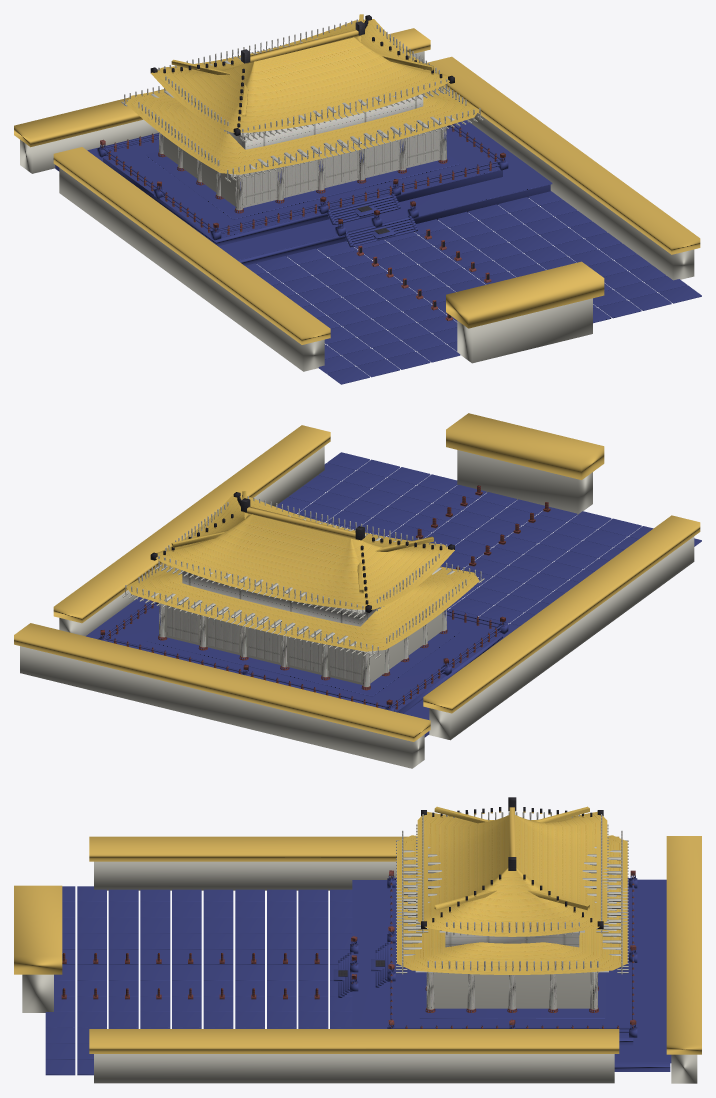
3 renders of one model, top to bottom at view 1: azimuth 30°, elevation 25°; view 2: azimuth 150°, elevation 25°; view 3: azimuth 270°, elevation 25°, orthographic. The views are drawn at different scales.
Visible parts, largest first — view 1: surrounding_haenggak_corridors, courtyard_pumgyeseok_and_pavement, upper_paljak_roof_and_rafters, woldae_2tier_granite, hall_columns_and_lattice_doors, lower_tier_roof_and_rafters, woldae_balustrade_and_stone_statues, gongpo_bracket_assemblies, roof_ridge_chimi_and_japsang, central_stairs_with_dabdo_phoenix; view 2: surrounding_haenggak_corridors, courtyard_pumgyeseok_and_pavement, upper_paljak_roof_and_rafters, hall_columns_and_lattice_doors, lower_tier_roof_and_rafters, woldae_2tier_granite, gongpo_bracket_assemblies, woldae_balustrade_and_stone_statues, roof_ridge_chimi_and_japsang; view 3: surrounding_haenggak_corridors, courtyard_pumgyeseok_and_pavement, upper_paljak_roof_and_rafters, woldae_2tier_granite, lower_tier_roof_and_rafters, hall_columns_and_lattice_doors, gongpo_bracket_assemblies, roof_ridge_chimi_and_japsang, woldae_balustrade_and_stone_statues, central_stairs_with_dabdo_phoenix.
Part boxes in pixels (bbox=[...]): surrounding_haenggak_corridors: bbox=[14, 28, 700, 371]; courtyard_pumgyeseok_and_pavement: bbox=[245, 191, 701, 384]; upper_paljak_roof_and_rafters: bbox=[151, 18, 450, 142]; woldae_2tier_granite: bbox=[53, 120, 552, 265]; hall_columns_and_lattice_doors: bbox=[146, 127, 459, 220]; lower_tier_roof_and_rafters: bbox=[121, 85, 483, 182]; woldae_balustrade_and_stone_statues: bbox=[97, 124, 508, 240]; gongpo_bracket_assemblies: bbox=[151, 38, 454, 176]; roof_ridge_chimi_and_japsang: bbox=[150, 14, 454, 135]; central_stairs_with_dabdo_phoenix: bbox=[327, 193, 417, 247]; surrounding_haenggak_corridors: bbox=[14, 413, 700, 768]; courtyard_pumgyeseok_and_pavement: bbox=[275, 452, 701, 626]; upper_paljak_roof_and_rafters: bbox=[155, 495, 454, 619]; hall_columns_and_lattice_doors: bbox=[146, 603, 459, 697]; lower_tier_roof_and_rafters: bbox=[122, 562, 484, 658]; woldae_2tier_granite: bbox=[86, 597, 518, 737]; gongpo_bracket_assemblies: bbox=[151, 515, 454, 653]; woldae_balustrade_and_stone_statues: bbox=[98, 600, 508, 711]; roof_ridge_chimi_and_japsang: bbox=[150, 491, 454, 612]; surrounding_haenggak_corridors: bbox=[14, 836, 701, 1083]; courtyard_pumgyeseok_and_pavement: bbox=[45, 886, 352, 1075]; upper_paljak_roof_and_rafters: bbox=[416, 811, 608, 936]; woldae_2tier_granite: bbox=[352, 879, 671, 1071]; lower_tier_roof_and_rafters: bbox=[396, 830, 628, 974]; hall_columns_and_lattice_doors: bbox=[419, 972, 605, 1019]; gongpo_bracket_assemblies: bbox=[403, 846, 620, 972]; roof_ridge_chimi_and_japsang: bbox=[421, 797, 603, 928]; woldae_balustrade_and_stone_statues: bbox=[350, 870, 637, 1037]; central_stairs_with_dabdo_phoenix: bbox=[333, 942, 390, 997].
Size of the model in its own units: 53 by 18.15 by 74.
4 materials, 4 textured.
